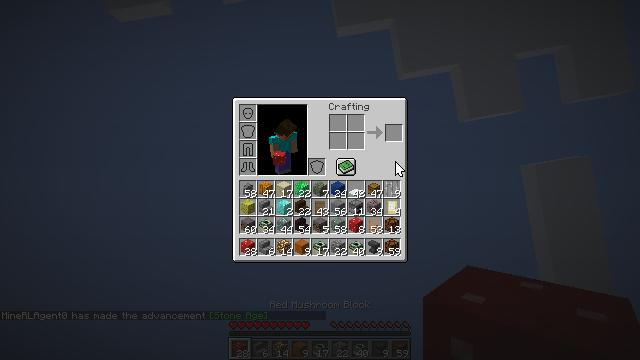cursor: (395, 161, 405, 177)
